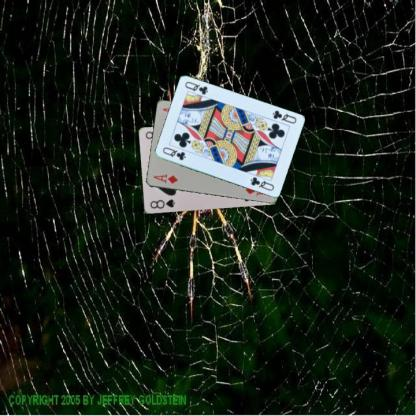8s: (148, 197, 176, 210)
Ad: (151, 171, 178, 185)
Qc: (160, 144, 187, 162), (270, 107, 297, 125)
